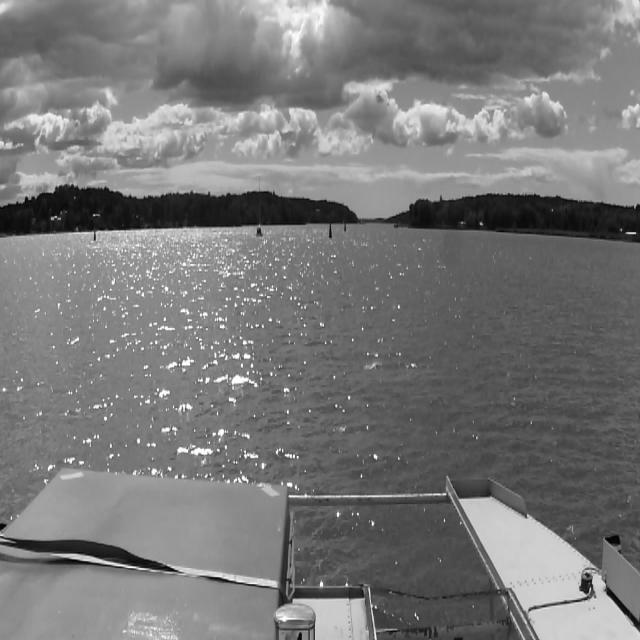buoy: (329, 221, 332, 241), (344, 218, 346, 234)
ship: (254, 181, 262, 235)
